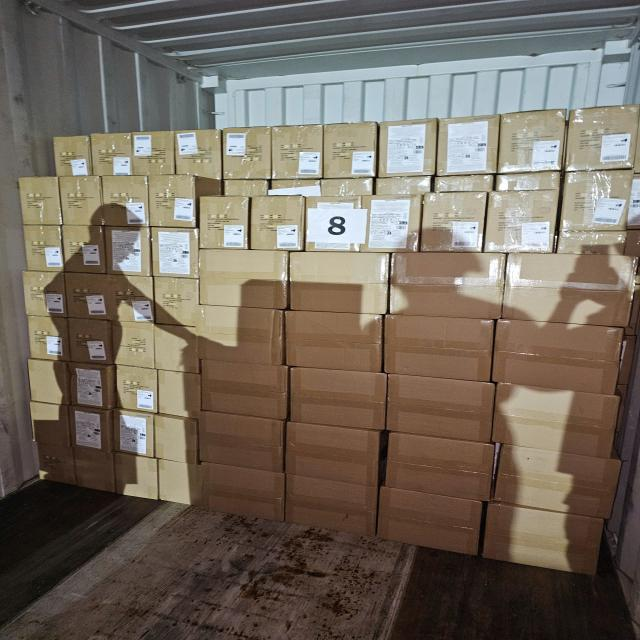Carton: (504, 254, 638, 328), (496, 326, 626, 400), (497, 448, 625, 522), (486, 503, 608, 578), (495, 388, 623, 459), (389, 251, 503, 319), (386, 435, 494, 503), (387, 374, 495, 442), (379, 492, 485, 561), (384, 314, 494, 380), (290, 369, 390, 432), (290, 252, 391, 313), (288, 310, 387, 372), (284, 422, 380, 485), (489, 174, 563, 255), (197, 250, 288, 313), (284, 475, 376, 537), (198, 360, 287, 420), (196, 307, 283, 366), (199, 411, 285, 470), (564, 110, 636, 174), (561, 173, 633, 237), (500, 110, 568, 174), (425, 193, 488, 254), (437, 117, 500, 176), (92, 131, 176, 175), (34, 406, 78, 488), (308, 197, 370, 254), (378, 120, 438, 177), (366, 194, 422, 253), (252, 197, 306, 252), (325, 124, 378, 180), (271, 126, 324, 180), (197, 194, 249, 248), (148, 175, 198, 230), (222, 128, 270, 180), (176, 128, 225, 178), (154, 230, 202, 280), (105, 177, 151, 228), (108, 274, 156, 322), (106, 230, 153, 279), (64, 273, 112, 320), (21, 269, 67, 317), (156, 277, 202, 325), (152, 327, 199, 373), (61, 228, 106, 276), (18, 177, 62, 226), (68, 360, 114, 406), (154, 416, 198, 464), (59, 178, 101, 228), (69, 320, 114, 366), (156, 368, 200, 415), (113, 408, 156, 456), (24, 223, 66, 271), (117, 363, 158, 412), (26, 361, 70, 406), (26, 317, 69, 363), (114, 322, 156, 369), (116, 456, 160, 500), (71, 407, 112, 450), (74, 453, 114, 496), (55, 134, 94, 176), (156, 462, 192, 506)
